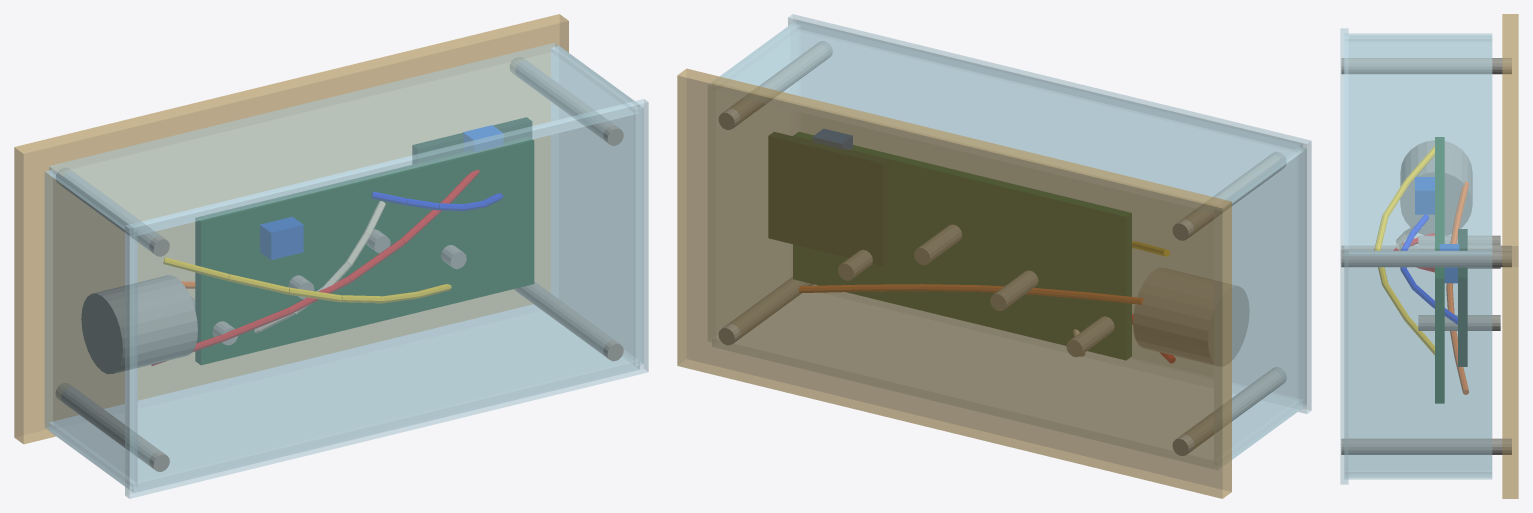
Rendered from 02_clear_acrylic_electronics_box.fbx.
3 renders of one model, left to right at view 1: azimuth 30°, elevation 25°; view 2: azimuth 150°, elevation 25°; view 3: azimuth 270°, elevation 25°, orthographic. The views are drawn at different scales.
Parts seen in each view (by area): view 1: acrylic_top_lid, acrylic_warm_base, acrylic_back_panel, acrylic_front_panel, acrylic_main_green_pcb, acrylic_left_panel, acrylic_right_panel, acrylic_side_motor, acrylic_corner_bolt_-0_6950000000000001_0_315, acrylic_corner_bolt_-0_6950000000000001_-0_315, acrylic_corner_bolt_0_6950000000000001_0_315, acrylic_corner_bolt_0_6950000000000001_-0_315 (+3 smaller); view 2: acrylic_warm_base, acrylic_top_lid, acrylic_back_panel, acrylic_front_panel, acrylic_main_green_pcb, acrylic_left_panel, acrylic_right_panel, acrylic_right_module_pcb, acrylic_side_motor, acrylic_corner_bolt_0_6950000000000001_0_315, acrylic_corner_bolt_-0_6950000000000001_0_315, acrylic_corner_bolt_-0_6950000000000001_-0_315 (+4 smaller); view 3: acrylic_right_panel, acrylic_back_panel, acrylic_front_panel, acrylic_left_panel, acrylic_warm_base, acrylic_top_lid, acrylic_side_motor, acrylic_corner_bolt_-0_6950000000000001_0_315, acrylic_corner_bolt_0_6950000000000001_-0_315, acrylic_corner_bolt_0_6950000000000001_0_315, acrylic_main_green_pcb, acrylic_right_module_pcb (+13 smaller).
Boxes of the visible parts, x1,y1,x2,y2 form: acrylic_top_lid: [125, 99, 648, 498]; acrylic_warm_base: [14, 14, 568, 444]; acrylic_back_panel: [49, 43, 639, 236]; acrylic_front_panel: [49, 304, 639, 492]; acrylic_main_green_pcb: [195, 137, 534, 365]; acrylic_left_panel: [44, 170, 137, 489]; acrylic_right_panel: [551, 46, 643, 365]; acrylic_side_motor: [81, 275, 197, 374]; acrylic_corner_bolt_-0_6950000000000001_0_315: [56, 168, 169, 256]; acrylic_corner_bolt_-0_6950000000000001_-0_315: [56, 383, 169, 471]; acrylic_corner_bolt_0_6950000000000001_0_315: [510, 57, 623, 145]; acrylic_corner_bolt_0_6950000000000001_-0_315: [514, 281, 623, 361]; acrylic_warm_base: [677, 68, 1231, 498]; acrylic_top_lid: [788, 14, 1311, 413]; acrylic_back_panel: [712, 20, 1302, 212]; acrylic_front_panel: [712, 293, 1302, 469]; acrylic_main_green_pcb: [793, 132, 1131, 359]; acrylic_left_panel: [1214, 147, 1306, 466]; acrylic_right_panel: [708, 25, 798, 341]; acrylic_right_module_pcb: [768, 132, 887, 265]; acrylic_side_motor: [1133, 268, 1249, 364]; acrylic_corner_bolt_0_6950000000000001_0_315: [718, 41, 832, 129]; acrylic_corner_bolt_-0_6950000000000001_0_315: [1172, 152, 1285, 240]; acrylic_corner_bolt_-0_6950000000000001_-0_315: [1172, 367, 1286, 455]; acrylic_right_panel: [1344, 251, 1492, 477]; acrylic_back_panel: [1344, 33, 1492, 255]; acrylic_front_panel: [1344, 267, 1492, 479]; acrylic_left_panel: [1348, 35, 1491, 245]; acrylic_warm_base: [1502, 14, 1518, 498]; acrylic_top_lid: [1340, 28, 1348, 484]; acrylic_side_motor: [1400, 140, 1472, 235]; acrylic_corner_bolt_-0_6950000000000001_0_315: [1341, 58, 1511, 74]; acrylic_corner_bolt_0_6950000000000001_-0_315: [1341, 438, 1511, 454]; acrylic_corner_bolt_0_6950000000000001_0_315: [1341, 251, 1511, 267]; acrylic_main_green_pcb: [1435, 137, 1444, 403]; acrylic_right_module_pcb: [1458, 229, 1467, 366].
Size of the model in its own units: 1.67 by 0.85 by 0.5425.
